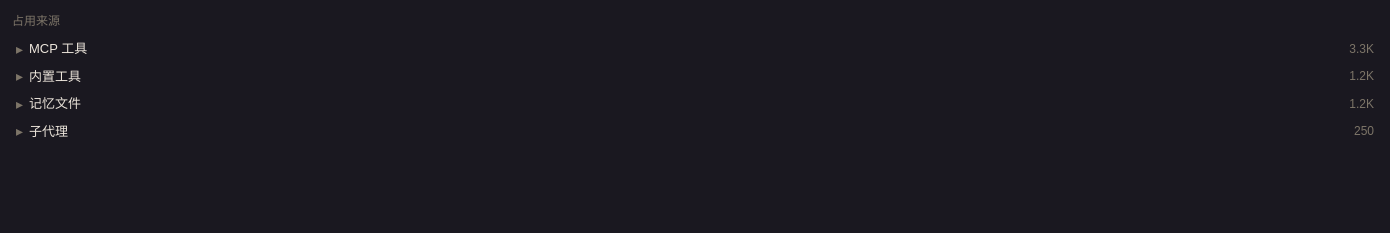
Scenario: ContextUsageBreakdown — 两级展开 › 平铺组按占用降序，来源标签作尾注
Click the button with class "usage-breakdown__row--head" showing "▸ 内置工具 1.2K" at (55, 76), box [12,64,1378,89]
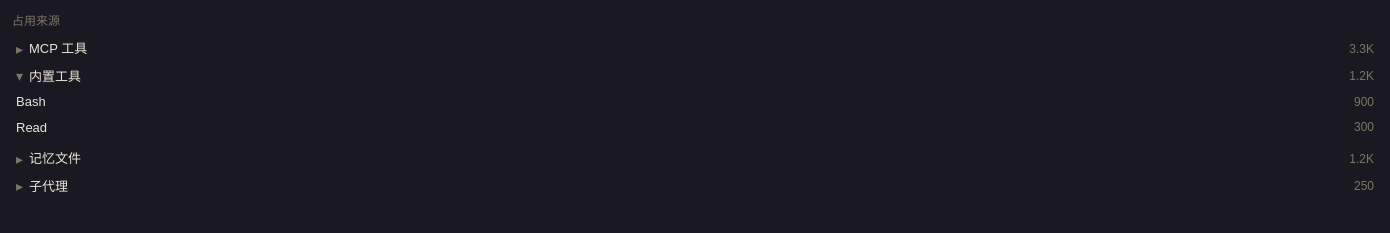
Click the button with class "usage-breakdown__row--head" showing "▸ 记忆文件 1.2K" at (55, 158), box [12,146,1378,172]
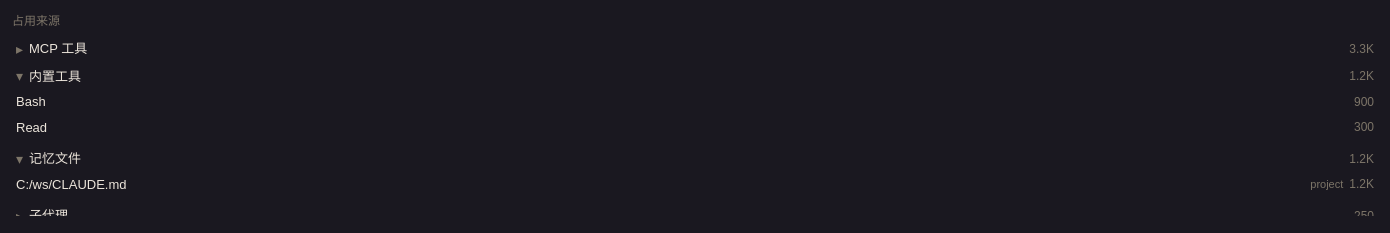
Check: the text with class "usage-breakdown__note" reads "project", box [1310,178,1343,190]
Check: the element titled "C:/ws/CLAUDE.md" is shown, box [16,176,1374,192]
